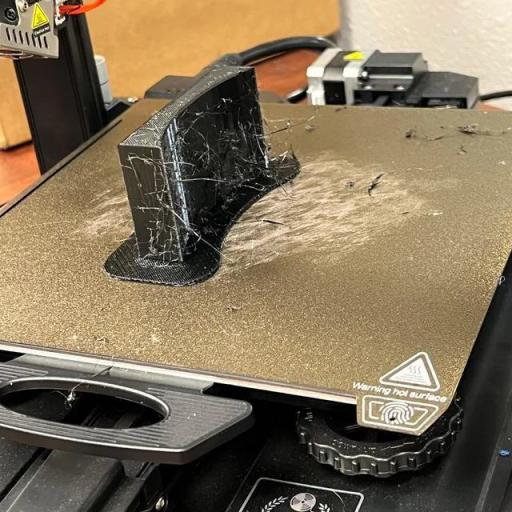stringing: (203, 130, 283, 188), (141, 146, 179, 260)
